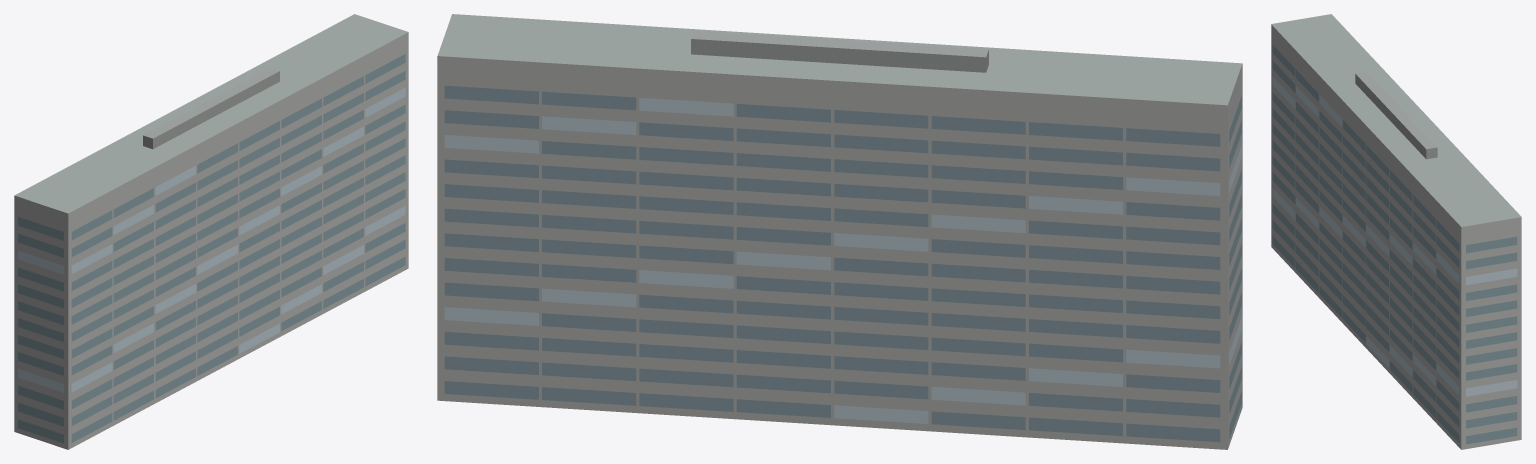
The model's file is fallback-daechi-eunma-9.glb.
3 views of the same model, side by side, from view 1: azimuth 30°, elevation 25°; view 2: azimuth 150°, elevation 25°; view 3: azimuth 270°, elevation 25° (orthographic). The views are drawn at different scales.
Visible parts, largest first — view 1: fallback-daechi-eunma-9; view 2: fallback-daechi-eunma-9; view 3: fallback-daechi-eunma-9.
Boxes of the visible parts, x1,y1,x2,y2 form: fallback-daechi-eunma-9: [14, 14, 408, 449]; fallback-daechi-eunma-9: [437, 14, 1242, 449]; fallback-daechi-eunma-9: [1271, 14, 1521, 449].
Size of the model in its own units: 87.57 by 44.62 by 43.52.
